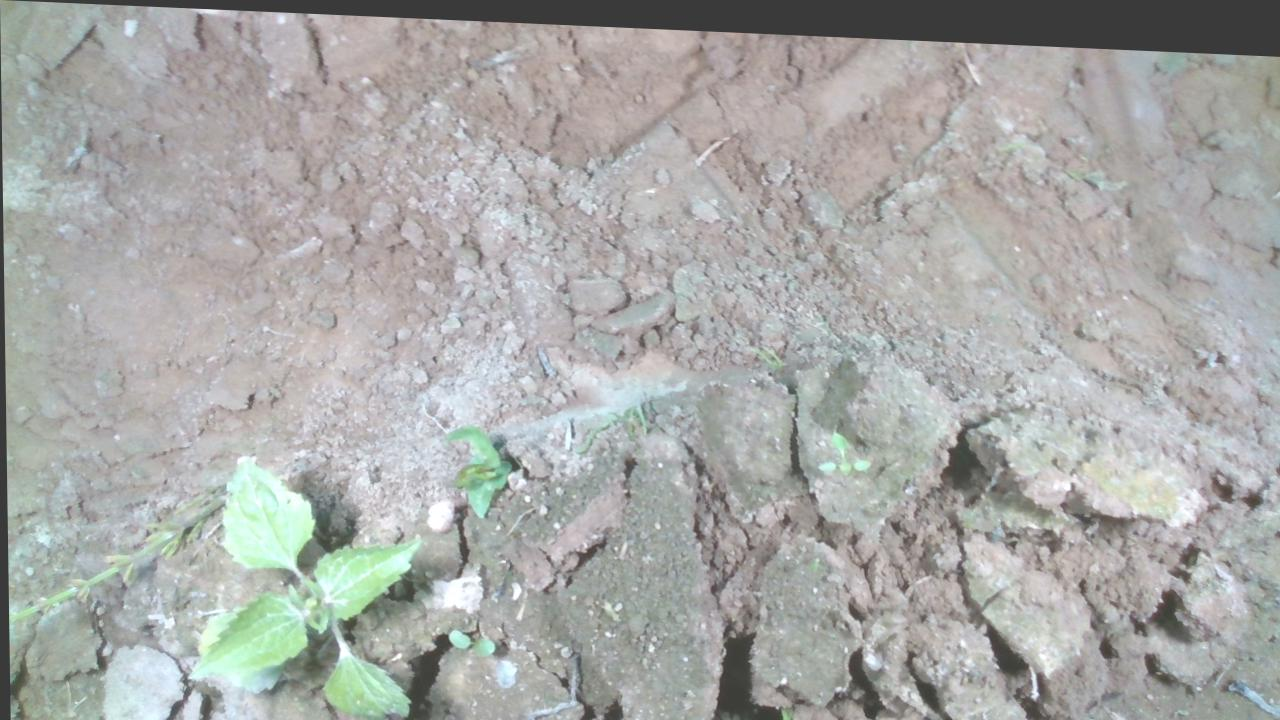weed: (813, 421, 871, 466), (444, 622, 494, 653), (1081, 704, 1108, 719)
